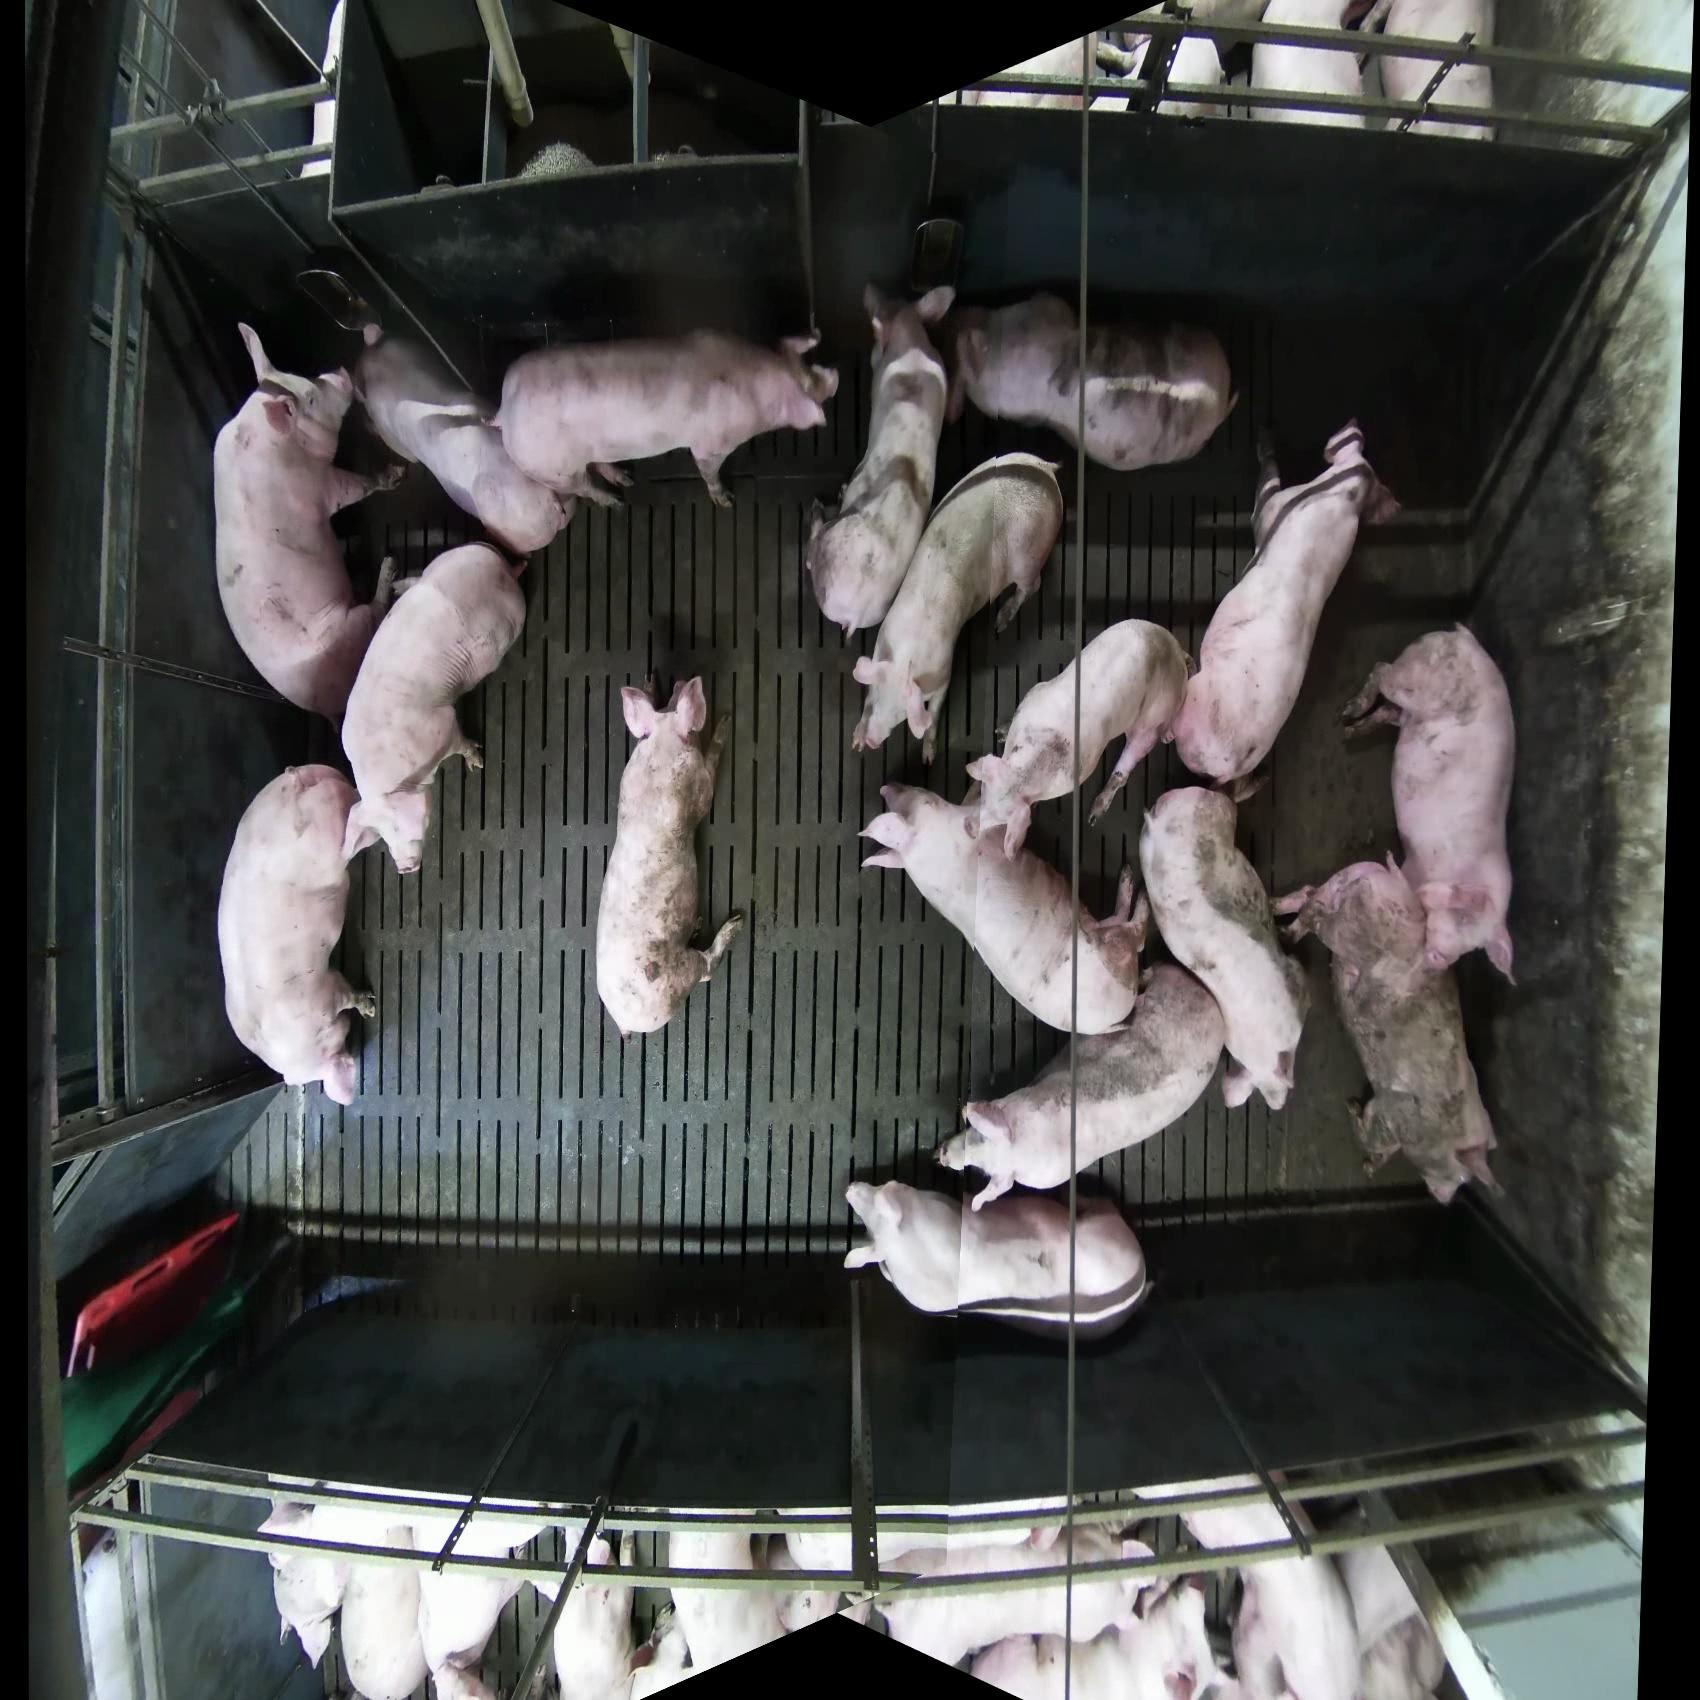pig: (1168, 416, 1404, 803), (1273, 855, 1505, 1207), (212, 321, 408, 729), (856, 778, 1152, 1038), (934, 961, 1228, 1213), (848, 451, 1066, 764), (1337, 621, 1519, 989), (493, 325, 841, 511), (338, 542, 528, 876), (1138, 785, 1309, 1115), (216, 763, 380, 1108), (803, 279, 957, 643), (964, 616, 1192, 859), (595, 674, 746, 1038), (947, 291, 1241, 473), (353, 321, 573, 557), (842, 1178, 1152, 1340), (870, 1523, 1157, 1669), (630, 1526, 838, 1698), (959, 1575, 1238, 1700), (419, 1535, 528, 1698), (1378, 2, 1498, 142), (1249, 2, 1378, 129), (255, 1501, 352, 1670), (550, 1526, 640, 1698), (339, 1524, 428, 1698), (1094, 28, 1228, 121)
